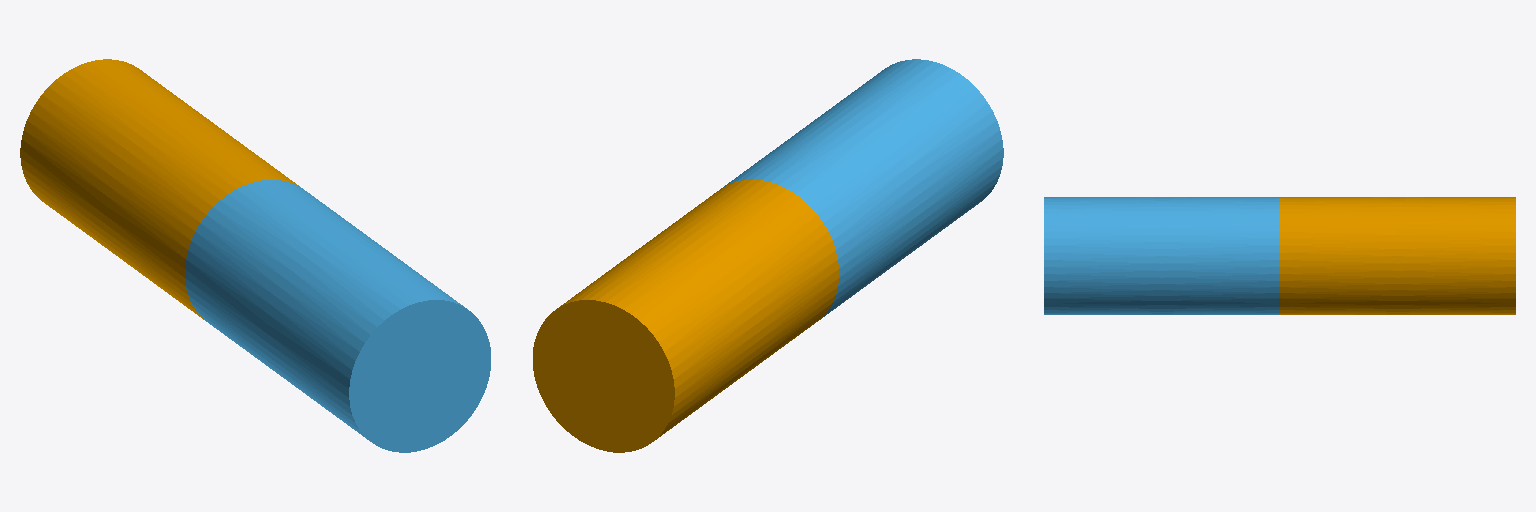
The robot description file, URDF, robot "robot":
<?xml version="1.0"?>
<robot name="robot">
  <link name="base_link">
    <visual>
      <geometry>
        <mesh  scale="0.003 0.003 0.003" filename="package://u1/meshes/Top.stl" />
      </geometry>
    </visual>
  </link>
  <link name="Bottom">
    <visual>
      <geometry>
        <mesh  scale="0.003 0.003 0.003" filename="package://u1/meshes/Bottom.stl" />
      </geometry>
    </visual>
  </link>
  <joint name="gripper_extension" type="fixed">
    <parent link="base_link"/>
    <child link="Bottom"/>
    <origin rpy="0 0 0" xyz="0 0 0"/>
  </joint>
</robot>

--- Render facts (derived) ---
3 views of the same robot in one strip: view 1: azimuth 30°, elevation 25°; view 2: azimuth 150°, elevation 25°; view 3: azimuth 270°, elevation 25° (orthographic).
Model robot with 2 links and 1 joints (1 fixed), rooted at base_link, posed every joint at zero.
Visible links, largest first — view 1: Bottom, base_link; view 2: base_link, Bottom; view 3: base_link, Bottom.
Boxes of the visible links, x1=… form: Bottom: x1=185, y1=180, x2=490, y2=452; base_link: x1=20, y1=59, x2=299, y2=319; base_link: x1=533, y1=180, x2=838, y2=452; Bottom: x1=724, y1=59, x2=1003, y2=319; base_link: x1=1280, y1=197, x2=1515, y2=314; Bottom: x1=1044, y1=197, x2=1279, y2=314.
Size in the robot's own frame: 0.15 by 0.6 by 0.1499 metres.
2 mesh visuals loaded from 2 distinct referenced files (2 binary STL).